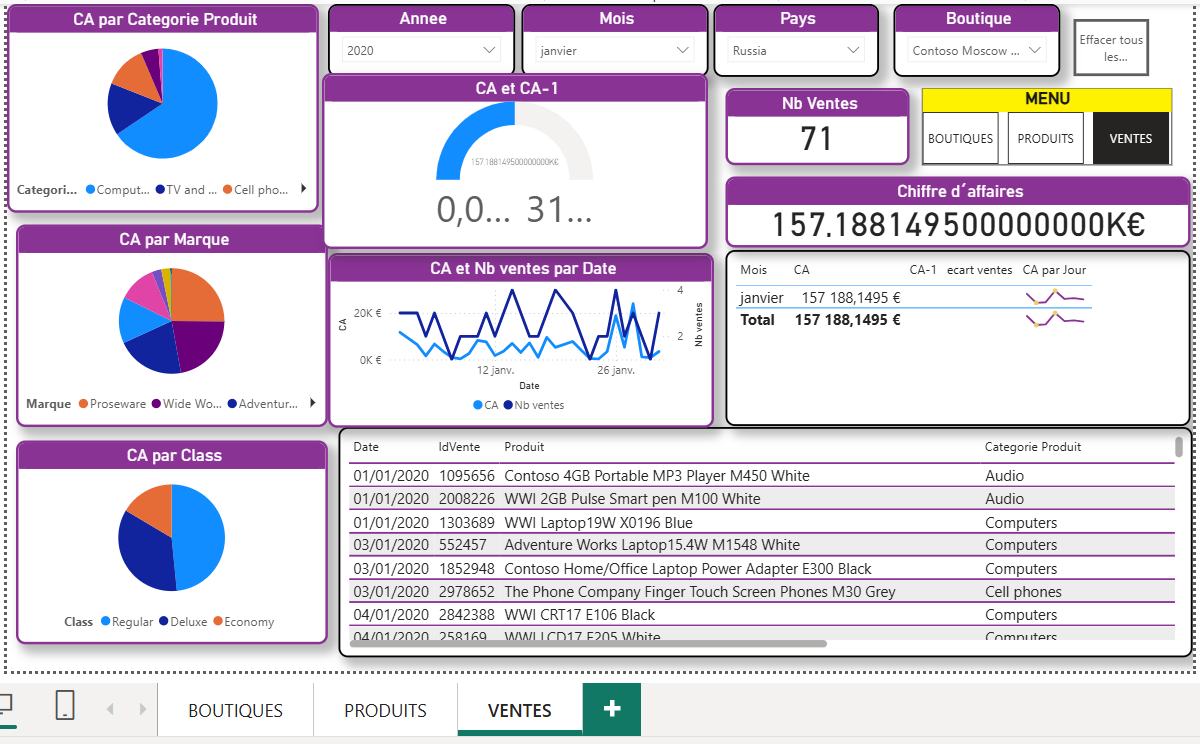

What the dashboard file says about the page in this screenshot:
{"tool":"powerbi","page":{"name":"VENTES","canvas":[1280,720],"ordinal":2},"visuals":[{"type":"pieChart","fields":{"Y":["Sales.CA"],"Category":["Categorie Produits.Categorie Produit"]},"box":[0,0,336.7,225],"z":0},{"type":"pieChart","fields":{"Y":["Sales.CA"],"Category":["Produits.Marque"]},"box":[10,238.3,336.7,218.3],"z":1000},{"type":"pieChart","fields":{"Y":["Sales.CA"],"Category":["Produits.Class"]},"box":[10,471.7,336.7,220],"z":2000},{"type":"slicer","title":"Annee","fields":{"Values":["DateTable.Année"]},"box":[346.7,0,201.7,78.3],"z":3000},{"type":"slicer","title":"Mois","fields":{"Values":["DateTable.Mois"]},"box":[555,0,201.7,78.3],"z":4000},{"type":"tableEx","fields":{"Values":["DateTable.Date","Sales.IdVente","Produits.Produit","Categorie Produits.Categorie Produit","Sales.Quantité de vente","Produits.Prix unitaire","Sales.Remise","Sales.Montant vente","Sales.Montant vente apres remise"]},"box":[358.3,456.7,921.7,248.3],"z":5000},{"type":"lineChart","fields":{"Category":["DateTable.Date"],"Y":["Sales.CA"],"Y2":["Sales.Nb ventes"]},"box":[346.7,268.3,416.7,188.3],"z":5001},{"type":"gauge","fields":{"Y":["Sales.CA"],"TargetValue":["Sales.CA-1"]},"box":[340,75,416.7,190],"z":5002},{"type":"tableEx","fields":{"Values":["DateTable.Mois","Sales.CA","Sales.CA-1","Sales.ecart ventes","SparklineData(Sales.CA_[DateTable.Jour])"]},"box":[775,265,501.7,190],"z":5003},{"type":"card","title":"Nb Ventes","fields":{"Values":["Sales.Nb ventes"]},"box":[775,90,198.3,83.3],"z":5004},{"type":"card","title":"Chiffre d´affaires","fields":{"Values":["Sales.CA"]},"box":[775,186.7,501.7,76.7],"z":5005},{"type":"slicer","title":"Pays","fields":{"Values":["Geographie.Pays"]},"box":[763.3,0,178.3,78.3],"z":5006},{"type":"slicer","title":"Boutique","fields":{"Values":["Boutiques.Boutique"]},"box":[956.7,0,180,78.3],"z":5007},{"type":"actionButton","box":[1151.7,16.7,81.7,61.7],"z":5008},{"type":"pageNavigator","title":"MENU","box":[988.3,90,270,83.3],"z":5009}]}

Visuals, with their boxes in screenshot pixels (x1, y1, x2, y2):
pieChart - Sales.CA x Categorie Produits.Categorie Produit: box=[3, 0, 314, 208]
pieChart - Sales.CA x Produits.Marque: box=[12, 220, 324, 422]
pieChart - Sales.CA x Produits.Class: box=[12, 436, 324, 640]
"Annee" slicer: box=[324, 0, 510, 72]
"Mois" slicer: box=[516, 0, 703, 72]
tableEx - DateTable.Date x Sales.IdVente: box=[334, 422, 1187, 652]
lineChart - DateTable.Date x Sales.CA: box=[324, 248, 709, 422]
gauge - Sales.CA x Sales.CA-1: box=[317, 69, 703, 245]
tableEx - DateTable.Mois x Sales.CA: box=[720, 245, 1183, 421]
"Nb Ventes" card: box=[720, 83, 903, 160]
"Chiffre d´affaires" card: box=[720, 173, 1183, 244]
"Pays" slicer: box=[709, 0, 874, 72]
"Boutique" slicer: box=[888, 0, 1054, 72]
actionButton: box=[1068, 15, 1143, 72]
"MENU" pageNavigator: box=[917, 83, 1166, 160]
